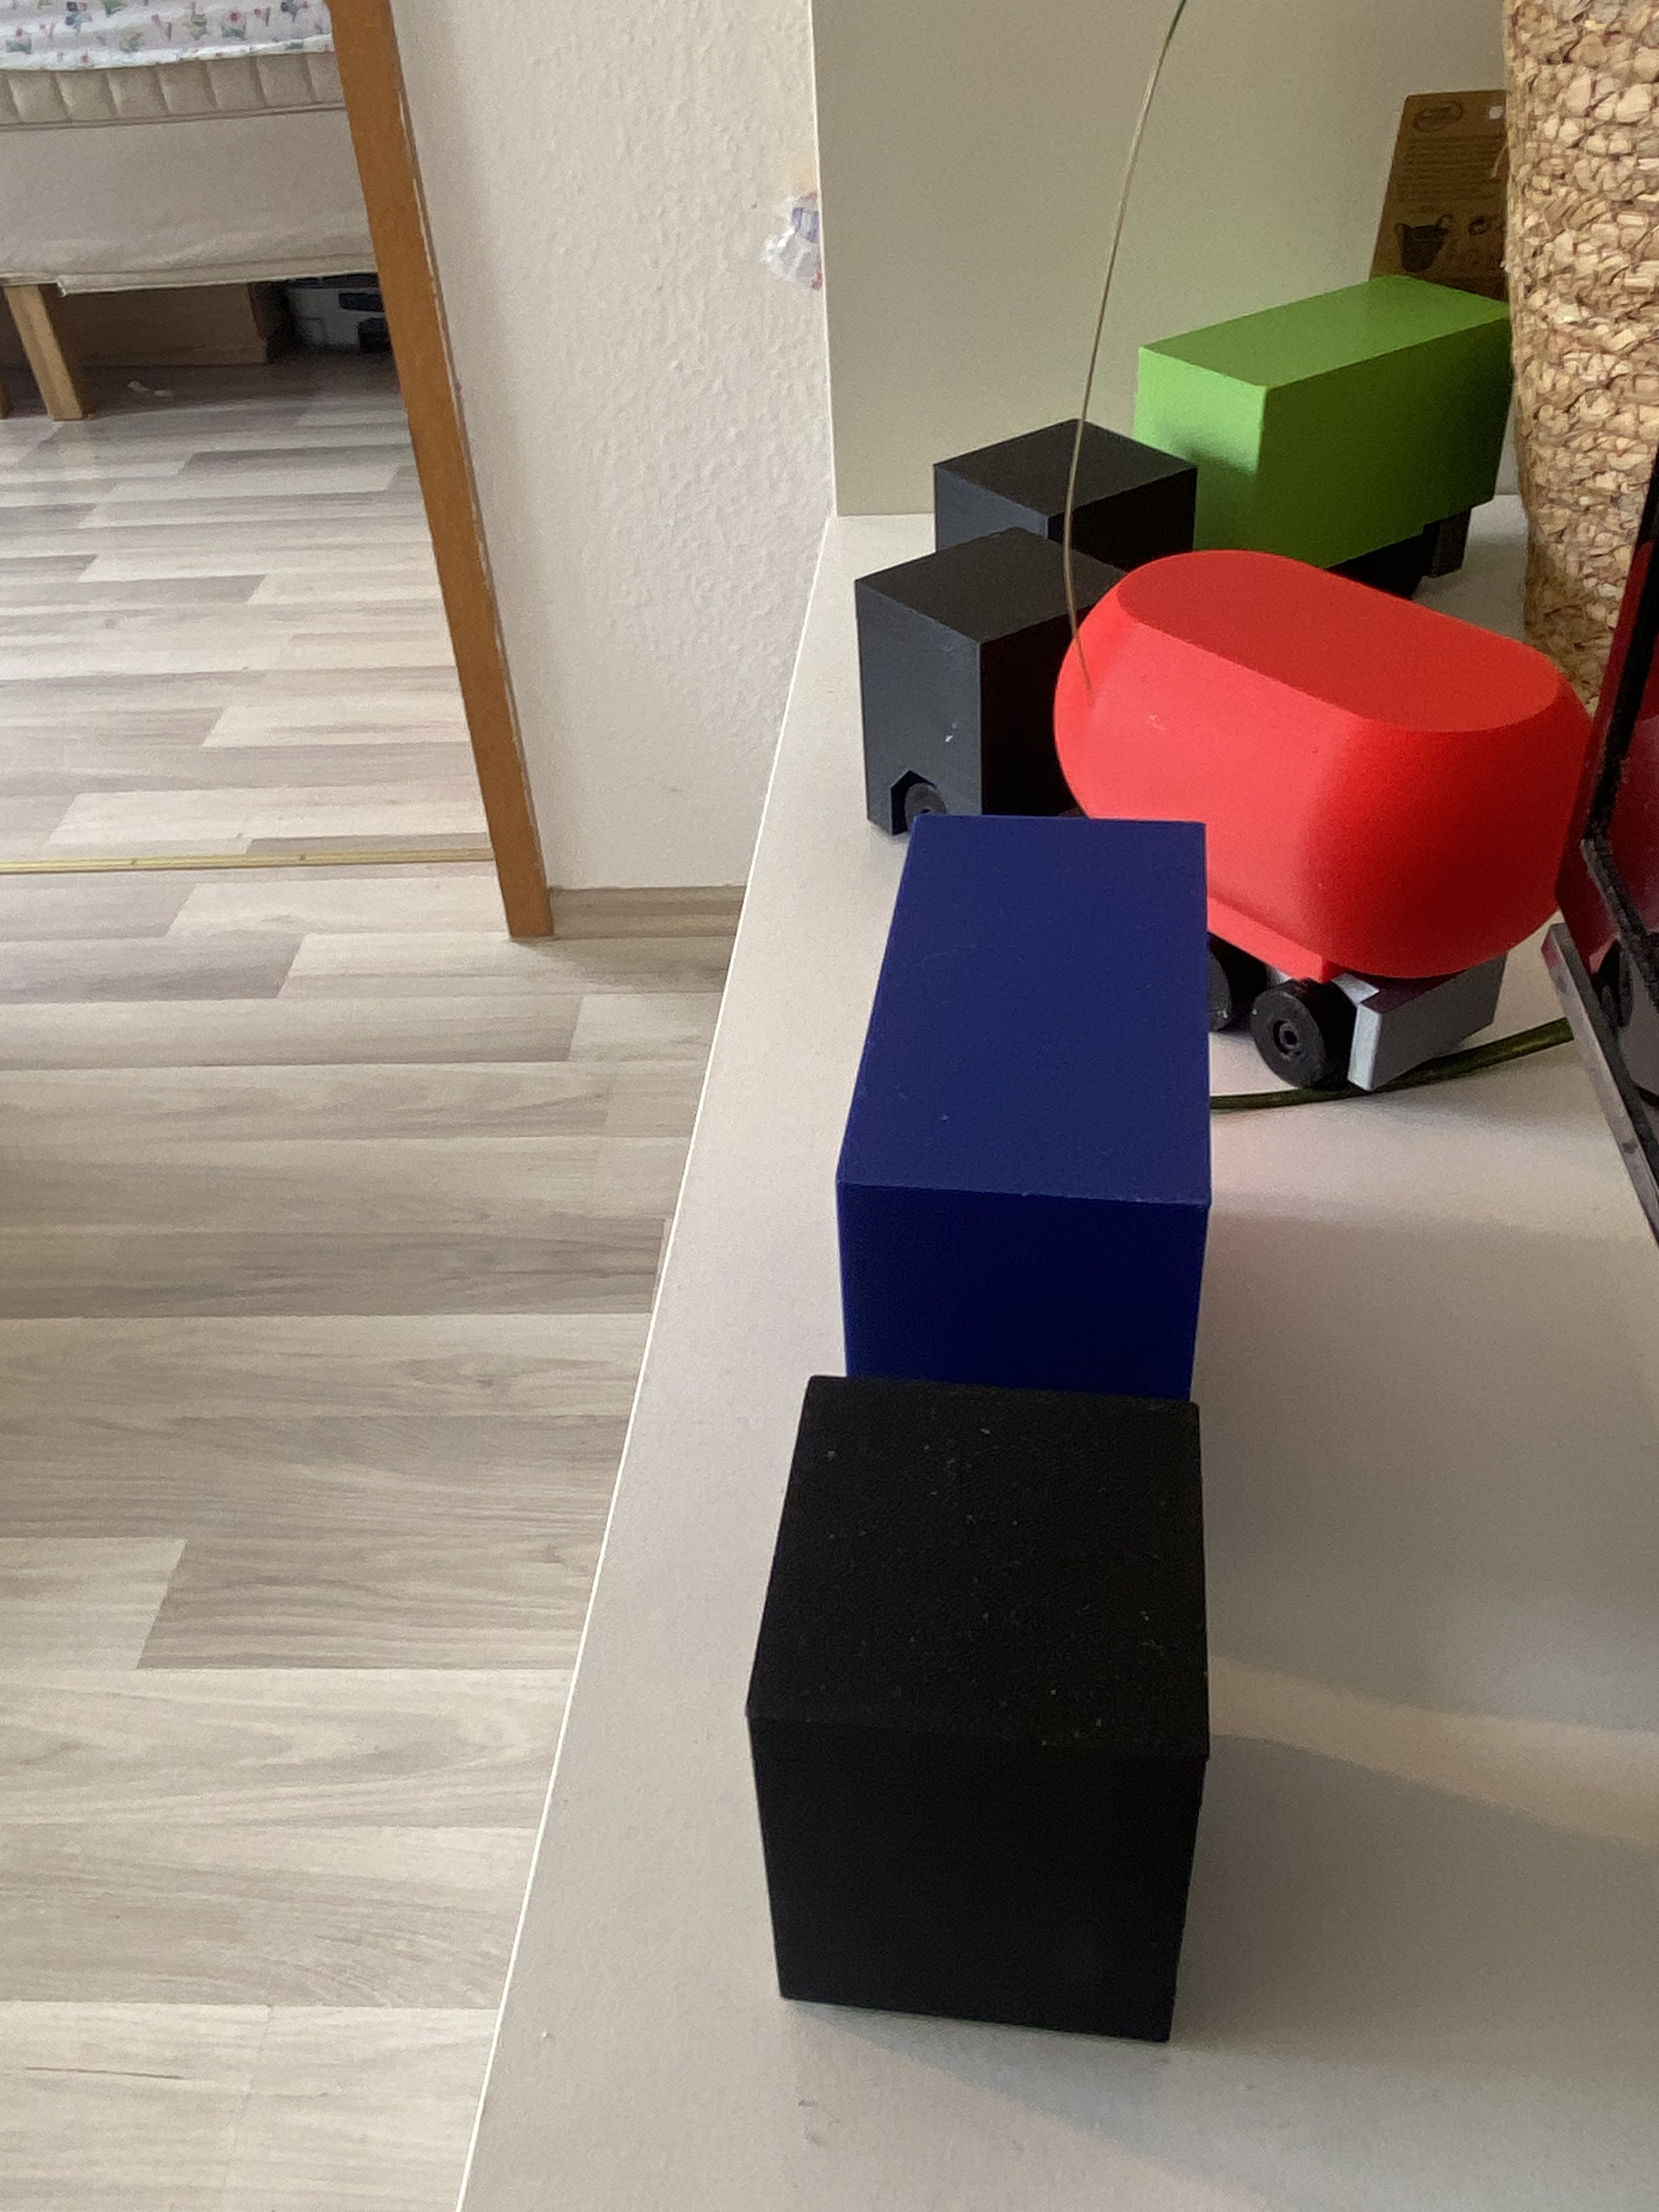blue_truck: (366, 1169, 1614, 1677)
green_truck: (1056, 190, 1380, 744)
red_truck: (826, 512, 1589, 996)
